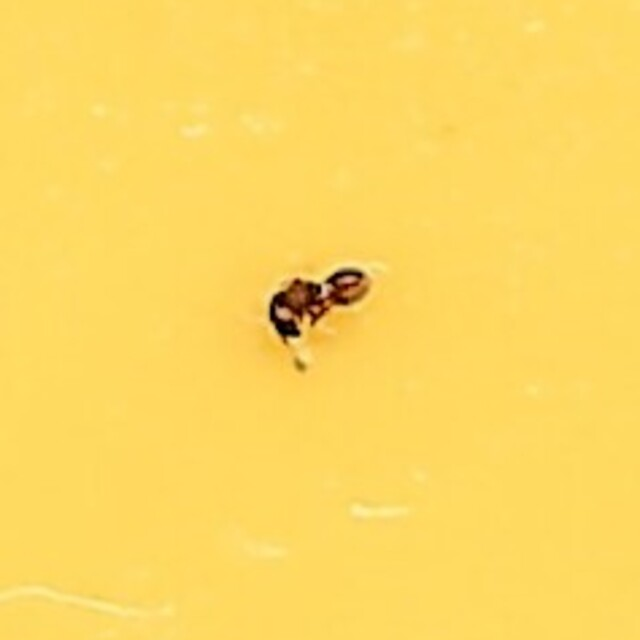Hymenoptera: (270, 270, 370, 370)
